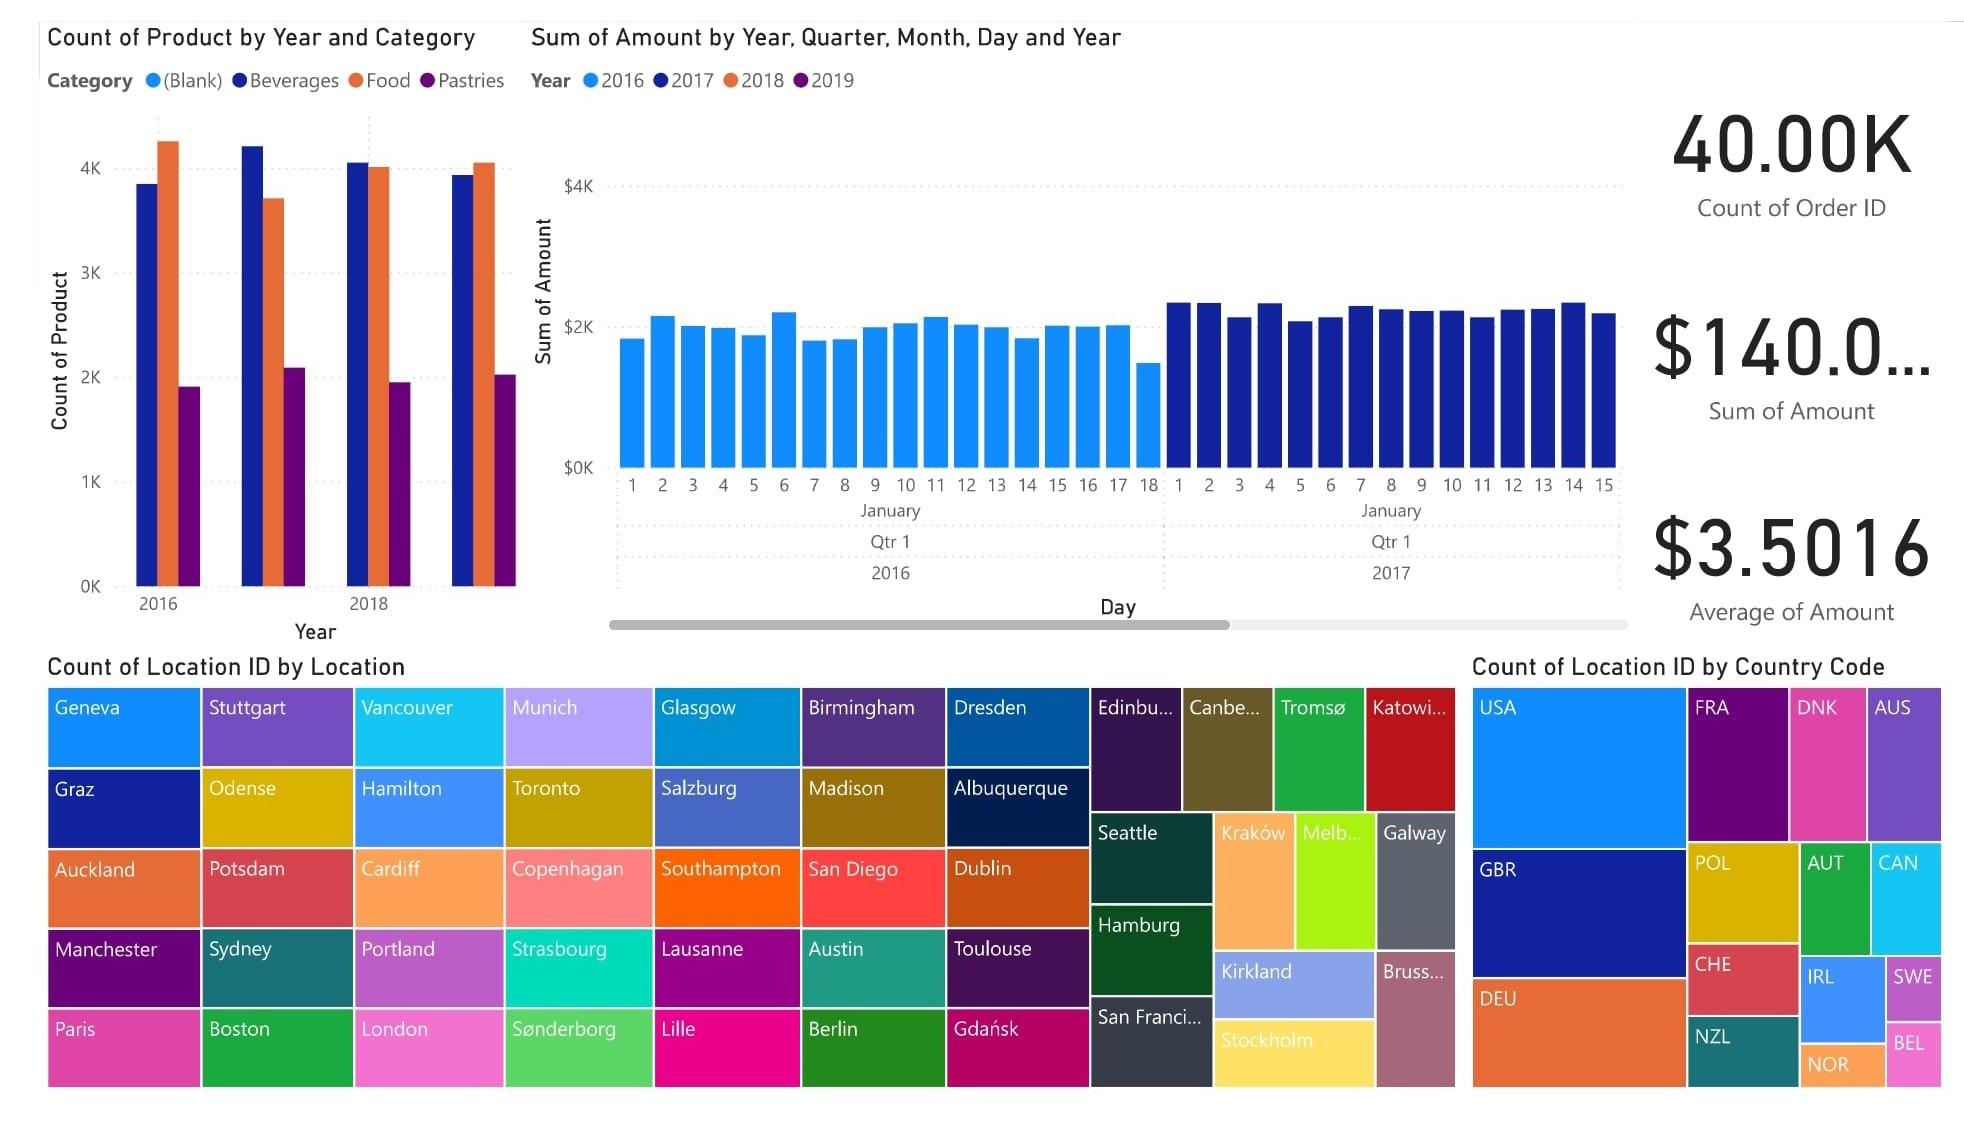

What the dashboard file says about the page in this screenshot:
{"tool":"powerbi","page":{"name":"Page 1","canvas":[1280,720],"ordinal":0},"visuals":[{"type":"card","fields":{"Values":["CountNonNull(Sales.Order ID)"]},"box":[1070,0,210.3,171.2],"z":0},{"type":"treemap","fields":{"Group":["Location.Location","Sales.Location ID"],"Values":["CountNonNull(Sales.Location ID)"]},"box":[0,421.9,955,298.4],"z":1000},{"type":"treemap","fields":{"Group":["Location.Country Code"],"Values":["CountNonNull(Sales.Location ID)"]},"box":[955,421.9,325.3,298.4],"z":2000},{"type":"columnChart","fields":{"Category":["Sales.Date.Variation.Date Hierarchy.Year","Sales.Date.Variation.Date Hierarchy.Quarter","Sales.Date.Variation.Date Hierarchy.Month","Sales.Date.Variation.Date Hierarchy.Day"],"Series":["Sales.Date.Variation.Date Hierarchy.Year"],"Y":["Sum(Sales.Amount)"]},"box":[324.1,0,745.9,413.3],"z":3000},{"type":"clusteredColumnChart","fields":{"Y":["CountNonNull(Sales.Product)"],"Category":["Sales.Date.Variation.Date Hierarchy.Year","Products.Category"],"Series":["Products.Category"]},"box":[0,0,324.1,421.9],"z":4000},{"type":"card","fields":{"Values":["Sum(Sales.Amount)","select"]},"box":[1070,171.2,210.3,101.5],"z":4001},{"type":"card","fields":{"Values":["Avg(Sales.Amount)"]},"box":[1070,291,210.3,130.8],"z":4002}]}

Visuals, with their boxes in screenshot pixels (x1, y1, x2, y2), scaled from the page's 1280x720 canvas onto the 1964x1124 screenshot:
card - CountNonNull(Sales.Order ID): 1642, 0, 1963, 267
treemap - Location.Location x Sales.Location ID: 0, 659, 1465, 1123
treemap - Location.Country Code x CountNonNull(Sales.Location ID): 1465, 659, 1963, 1123
columnChart - Sales.Date.Variation.Date Hierarchy.Year x Sales.Date.Variation.Date Hierarchy.Quarter: 497, 0, 1642, 645
clusteredColumnChart - CountNonNull(Sales.Product) x Sales.Date.Variation.Date Hierarchy.Year: 0, 0, 497, 659
card - Sum(Sales.Amount) x select: 1642, 267, 1963, 426
card - Avg(Sales.Amount): 1642, 454, 1963, 658
